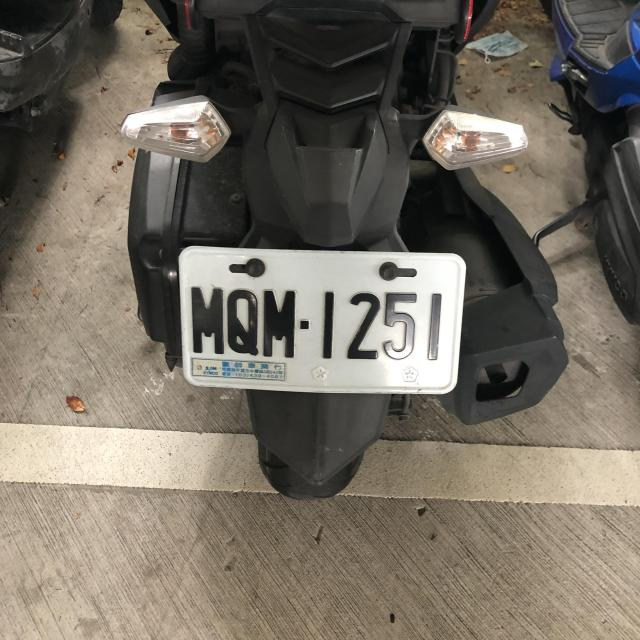W: (172, 244, 465, 396)
